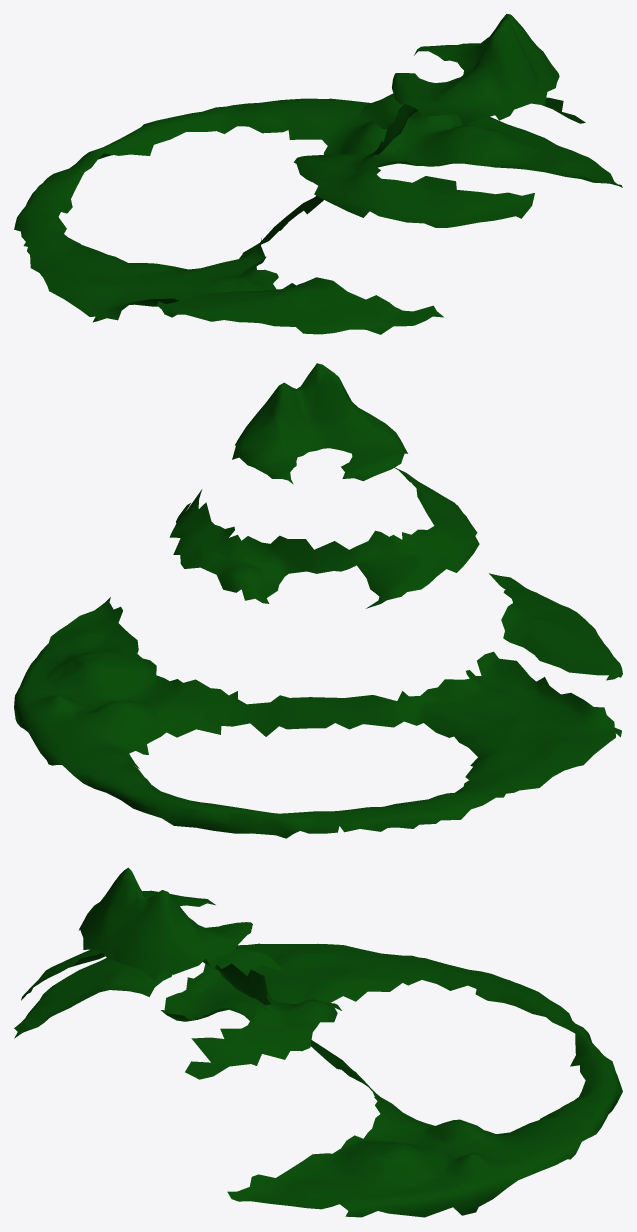
Rendered from grass2.FBX.
3 renders of one model, top to bottom at view 1: azimuth 30°, elevation 25°; view 2: azimuth 150°, elevation 25°; view 3: azimuth 270°, elevation 25°, orthographic. The views are drawn at different scales.
Parts seen in each view (by area): view 1: Group31594; view 2: Group31594; view 3: Group31594.
Part boxes in pixels (bbox=[...]): Group31594: bbox=[14, 14, 622, 334]; Group31594: bbox=[14, 363, 622, 838]; Group31594: bbox=[14, 867, 622, 1217].
Bounding box in the file's own units: 6631117 × 3233687 × 6421461.
